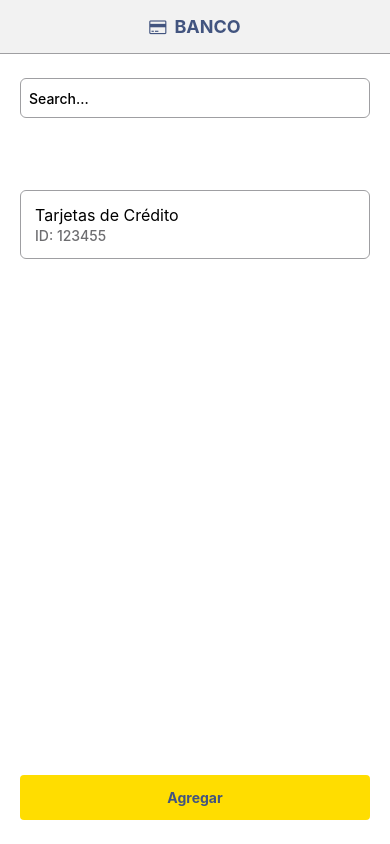
ProductDetail Screen › should show product information
The image size is (390, 844).
Click the element showing "Tarjetas de Crédito ID: 123455".
click(195, 224)  # box [20,190,370,259]
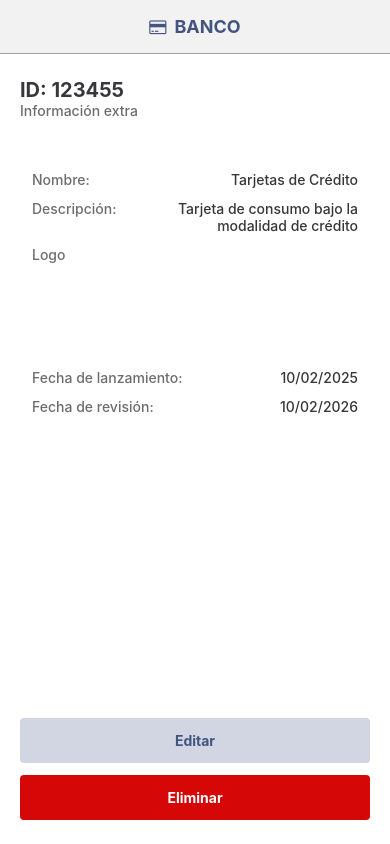
Expected: the text "Tarjetas de Crédito" is shown, [231,171,358,188]
Expected: the text "Información extra" is shown, [20,102,138,119]
Expected: the text "Tarjeta de consumo bajo la modalidad de crédito" is shown, [178,200,362,234]
